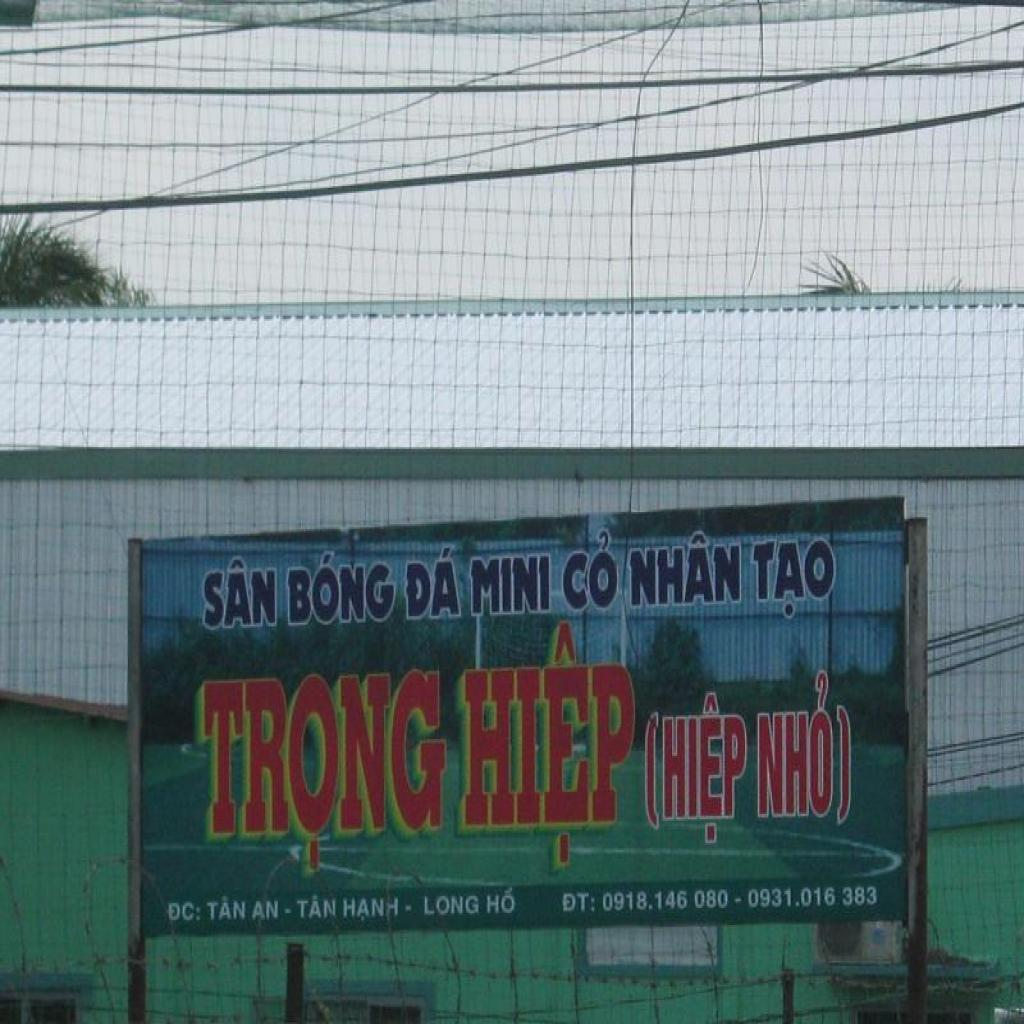text: (201, 669, 449, 870), (638, 689, 752, 845), (755, 666, 854, 830), (628, 529, 744, 609), (288, 548, 398, 626), (750, 536, 838, 623), (202, 554, 279, 632), (468, 554, 553, 618), (559, 531, 621, 616), (404, 546, 464, 623), (601, 888, 731, 913), (342, 896, 402, 922), (205, 892, 247, 922), (424, 896, 480, 918), (296, 894, 338, 920), (168, 899, 202, 925), (487, 888, 517, 916), (562, 892, 596, 914), (252, 900, 280, 922)
